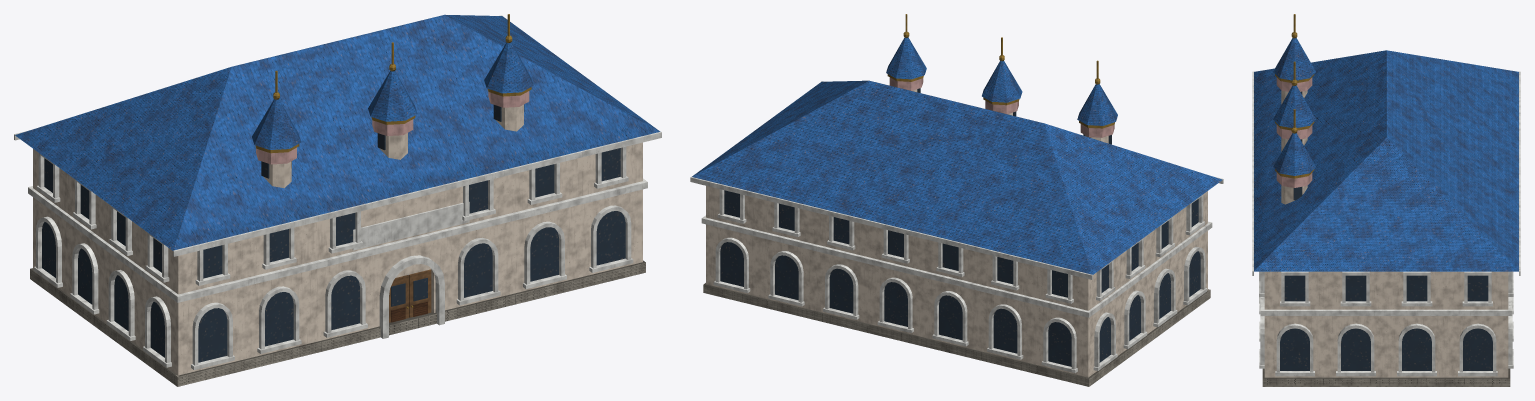
The model's file is Bld_Restaurant_Lakeview.fbx.
3 renders of one model, left to right at view 1: azimuth 30°, elevation 25°; view 2: azimuth 150°, elevation 25°; view 3: azimuth 270°, elevation 25°, orthographic. The views are drawn at different scales.
Visible parts, largest first — view 1: Roof, Walls_Hall, Windows, Plinth_Band, Entrance_Arch_Sign, RoofTurret_3, RoofTurret_2, RoofTurret_1, Door_Restaurant_Lakeview_R, Door_Restaurant_Lakeview_L; view 2: Roof, Walls_Hall, Windows, Plinth_Band, RoofTurret_1, RoofTurret_3, RoofTurret_2; view 3: Roof, Walls_Hall, Windows, Plinth_Band, RoofTurret_3, RoofTurret_1, RoofTurret_2.
Boxes of the visible parts, box(x1,y1,x2,y2) form: Roof: box(14, 14, 661, 256); Walls_Hall: box(33, 142, 642, 375); Windows: box(34, 146, 633, 370); Plinth_Band: box(28, 178, 647, 386); Entrance_Arch_Sign: box(352, 202, 469, 338); RoofTurret_3: box(484, 14, 533, 131); RoofTurret_2: box(368, 42, 417, 159); RoofTurret_1: box(252, 70, 301, 188); Door_Restaurant_Lakeview_R: box(409, 269, 431, 317); Door_Restaurant_Lakeview_L: box(389, 275, 408, 322); Roof: box(690, 80, 1223, 279); Walls_Hall: box(706, 186, 1207, 377); Windows: box(713, 189, 1207, 373); Plinth_Band: box(701, 215, 1212, 386); RoofTurret_1: box(1077, 60, 1117, 144); RoofTurret_3: box(886, 14, 926, 92); RoofTurret_2: box(982, 37, 1022, 116); Roof: box(1252, 50, 1520, 275); Walls_Hall: box(1264, 271, 1508, 377); Windows: box(1259, 271, 1513, 376); Plinth_Band: box(1260, 297, 1512, 386); RoofTurret_3: box(1273, 109, 1315, 204); RoofTurret_1: box(1273, 14, 1315, 104); RoofTurret_2: box(1273, 61, 1315, 151).
Bounding box in the file's own units: 25.2 × 13.47 × 14.32.
